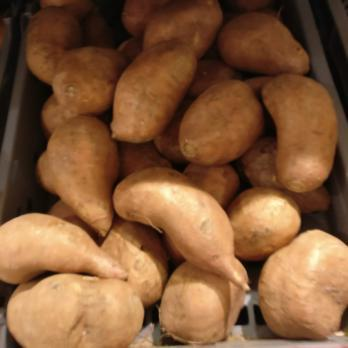Sweet potato: (27, 4, 307, 212), (0, 211, 348, 348), (259, 76, 339, 195)
